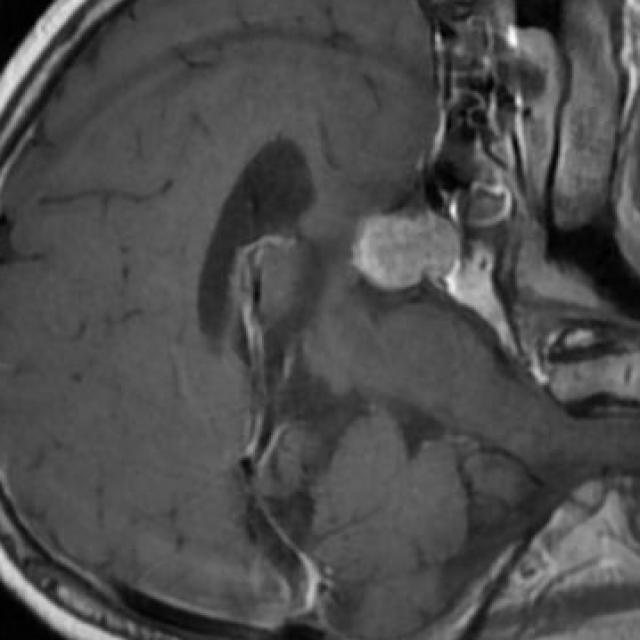pituitary: (351, 212, 460, 291)
